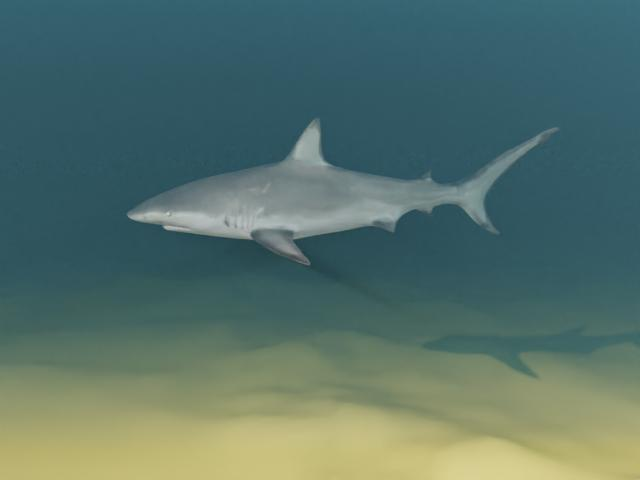Carribean Shark.001: (126, 117, 559, 265)
